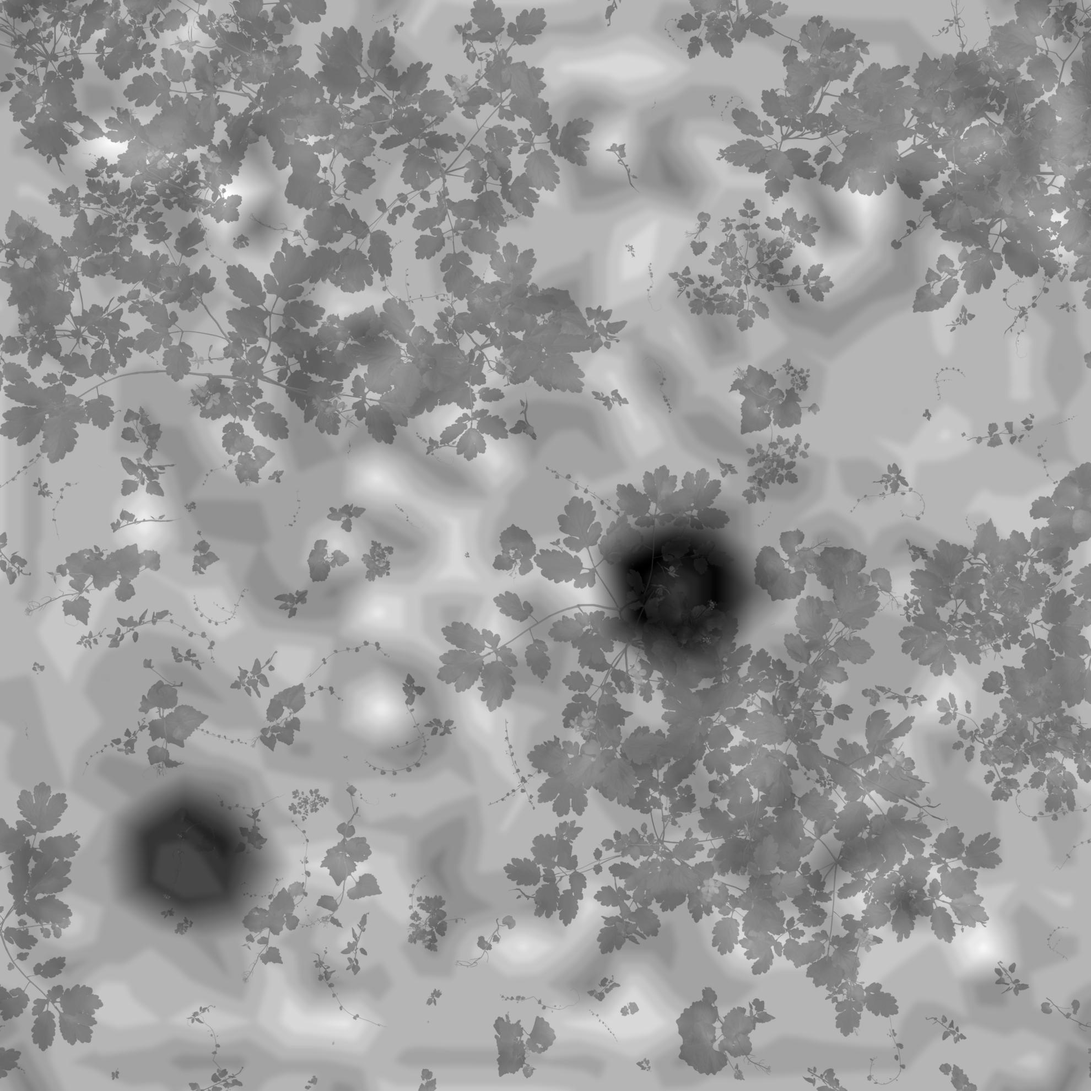landmine: (600, 511, 758, 658), (121, 795, 253, 919)
